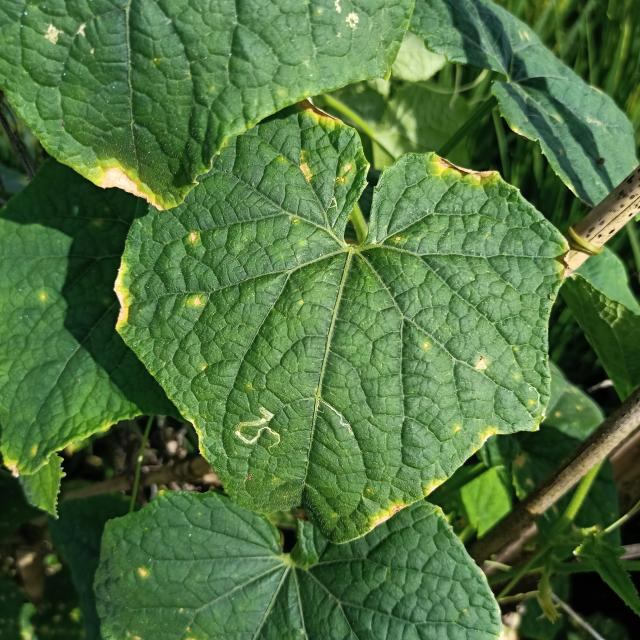disease_cucumber: (292, 99, 354, 193), (444, 408, 514, 448), (188, 293, 209, 313), (181, 233, 203, 248), (475, 356, 494, 371)
